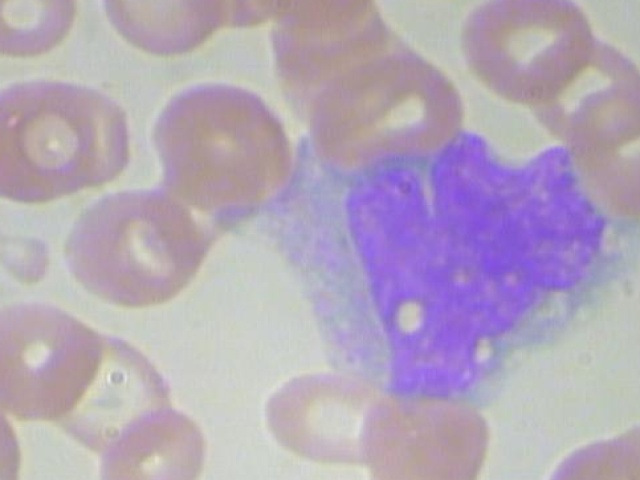RBC: (50, 187, 232, 319), (450, 0, 594, 117), (90, 395, 214, 480)
WBC: (242, 126, 640, 418)
